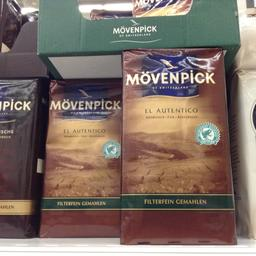coffee: (116, 48, 236, 245), (36, 76, 118, 238)
